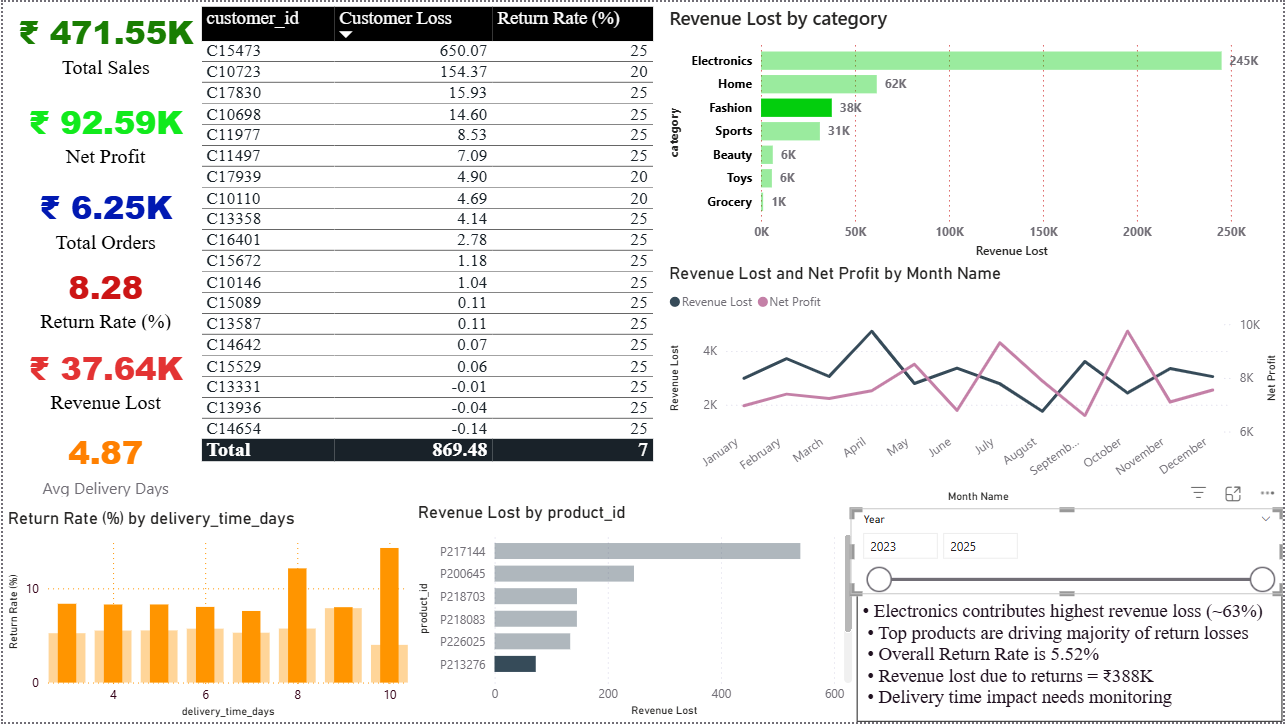

This screenshot's page, from the dashboard's own definition file:
{"tool":"powerbi","page":{"name":"E-Commerce Profit & Return Analysis Dashboard","canvas":[1280,720],"ordinal":0},"visuals":[{"type":"card","fields":{"Values":["ecommerce_sales_34500.Net Profit"]},"box":[0,85.7,205.7,88.6],"z":0},{"type":"card","fields":{"Values":["ecommerce_sales_34500.Total Sales"]},"box":[0,0,205.7,82.9],"z":1000},{"type":"card","fields":{"Values":["ecommerce_sales_34500.Total Orders"]},"box":[0,175.7,205.7,80],"z":2000},{"type":"card","fields":{"Values":["ecommerce_sales_34500.Return Rate (%)"]},"box":[0,258.6,205.7,74.3],"z":3000},{"type":"card","fields":{"Values":["ecommerce_sales_34500.Revenue Lost"]},"box":[0,334.3,205.7,85.7],"z":4000},{"type":"card","fields":{"Values":["ecommerce_sales_34500.Avg Delivery Days"]},"box":[0,422.9,205.7,77.1],"z":7000},{"type":"slicer","fields":{"Values":["ecommerce_sales_34500.Year"]},"box":[847.1,505.7,432.9,87.1],"z":7500},{"type":"barChart","fields":{"Y":["ecommerce_sales_34500.Revenue Lost"],"Category":["ecommerce_sales_34500.product_id"]},"box":[410,500,444.3,220],"z":8000},{"type":"tableEx","fields":{"Values":["ecommerce_sales_34500.customer_id","ecommerce_sales_34500.Customer Loss","ecommerce_sales_34500.Return Rate (%)"]},"box":[192.9,0,482.9,500],"z":9000},{"type":"clusteredColumnChart","fields":{"Category":["ecommerce_sales_34500.delivery_time_days"],"Y":["ecommerce_sales_34500.Return Rate (%)"]},"box":[0,505.7,410,214.3],"z":11000},{"type":"textbox","box":[854.3,592.9,425.7,127.1],"z":12000},{"type":"lineChart","fields":{"Y2":["ecommerce_sales_34500.Net Profit"],"Category":["ecommerce_sales_34500.Month Name"],"Y":["ecommerce_sales_34500.Revenue Lost"]},"box":[661.4,261.4,618.6,244.3],"z":12500},{"type":"clusteredBarChart","fields":{"Y":["ecommerce_sales_34500.Revenue Lost"],"Category":["ecommerce_sales_34500.category"]},"box":[661.4,2.9,618.6,258.6],"z":13000}]}

Visuals, with their boxes in screenshot pixels (x1, y1, x2, y2), scaled from the page's 1280x720 canvas onto the 1286x725 screenshot:
card - ecommerce_sales_34500.Net Profit: (0, 86, 207, 176)
card - ecommerce_sales_34500.Total Sales: (0, 0, 207, 83)
card - ecommerce_sales_34500.Total Orders: (0, 177, 207, 257)
card - ecommerce_sales_34500.Return Rate (%): (0, 260, 207, 335)
card - ecommerce_sales_34500.Revenue Lost: (0, 337, 207, 423)
card - ecommerce_sales_34500.Avg Delivery Days: (0, 426, 207, 503)
slicer - ecommerce_sales_34500.Year: (851, 509, 1285, 597)
barChart - ecommerce_sales_34500.Revenue Lost x ecommerce_sales_34500.product_id: (412, 503, 858, 724)
tableEx - ecommerce_sales_34500.customer_id x ecommerce_sales_34500.Customer Loss: (194, 0, 679, 503)
clusteredColumnChart - ecommerce_sales_34500.delivery_time_days x ecommerce_sales_34500.Return Rate (%): (0, 509, 412, 724)
textbox: (858, 597, 1285, 724)
lineChart - ecommerce_sales_34500.Net Profit x ecommerce_sales_34500.Month Name: (665, 263, 1285, 509)
clusteredBarChart - ecommerce_sales_34500.Revenue Lost x ecommerce_sales_34500.category: (665, 3, 1285, 263)
